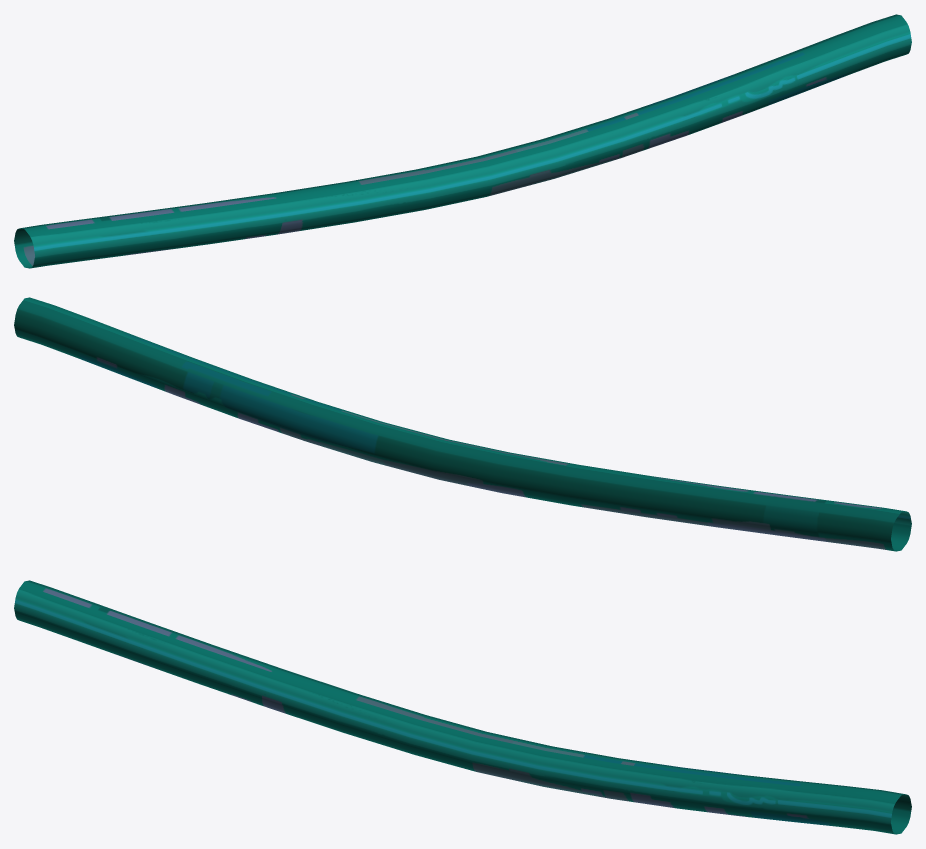
The model's file is SM_Wire_Mid_Long.fbx.
3 views of the same model, one above another, from view 1: azimuth 30°, elevation 25°; view 2: azimuth 150°, elevation 25°; view 3: azimuth 330°, elevation 25° (orthographic).
Visible parts, largest first — view 1: Sm_Wire_Mid_Long; view 2: Sm_Wire_Mid_Long; view 3: Sm_Wire_Mid_Long.
Boxes of the visible parts, bbox=[...] form: Sm_Wire_Mid_Long: bbox=[14, 14, 911, 268]; Sm_Wire_Mid_Long: bbox=[14, 297, 911, 551]; Sm_Wire_Mid_Long: bbox=[14, 580, 911, 834].
Bounding box in the file's own units: 1.75 × 0.8605 × 20.56.
Materials: 1 (1 with a texture image).
